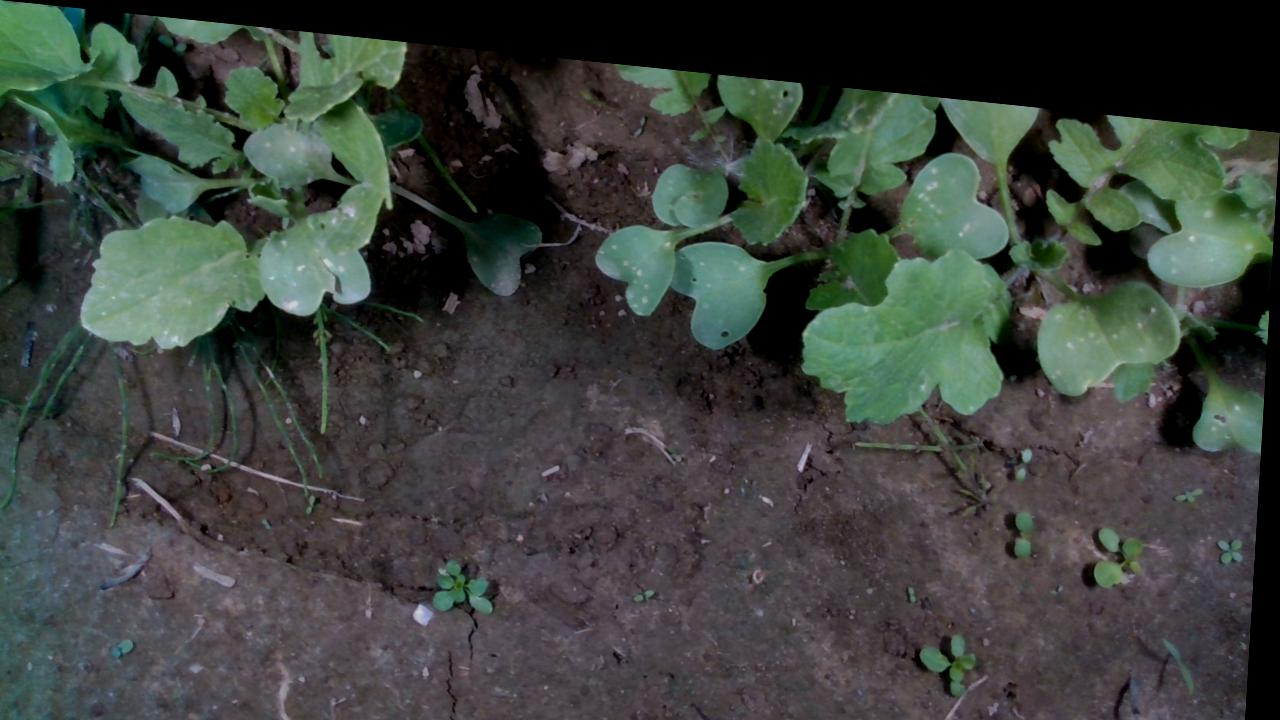weed: (922, 607, 983, 677), (1097, 498, 1151, 569), (1164, 611, 1203, 668), (1017, 485, 1037, 536), (1219, 506, 1249, 537), (1176, 456, 1208, 478), (1018, 423, 1037, 460), (117, 632, 141, 656), (638, 571, 661, 588), (310, 483, 321, 508), (912, 563, 921, 581), (266, 511, 277, 524)
